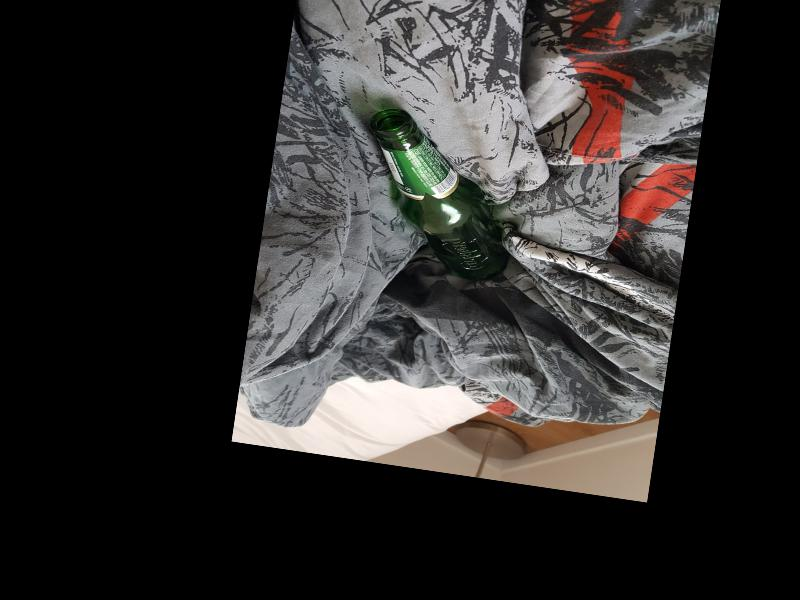Beer: (352, 104, 527, 284)
